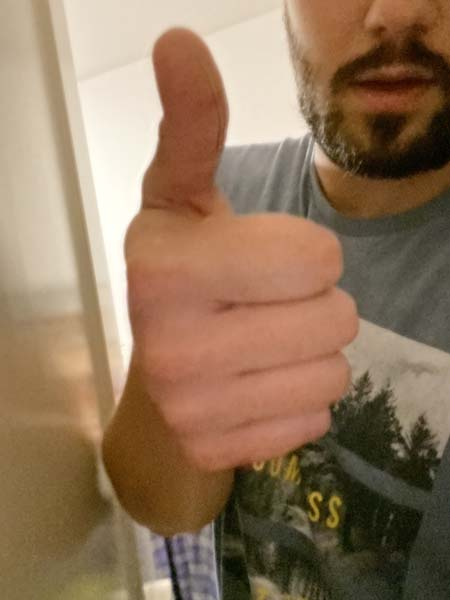Thumbs Up: (95, 18, 378, 492)
